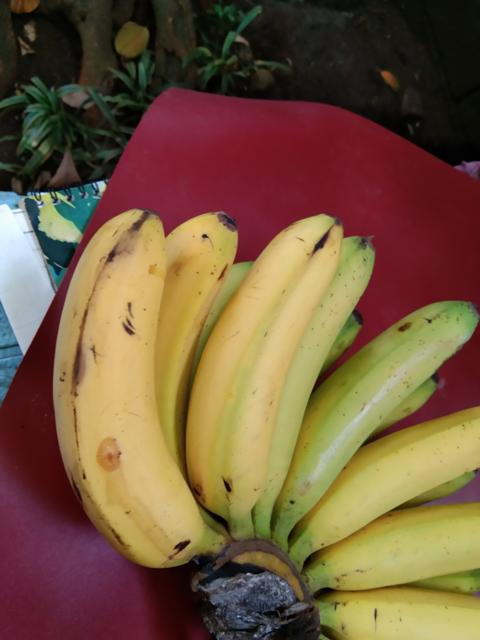freshripe: (292, 403, 479, 551), (323, 484, 479, 593)
